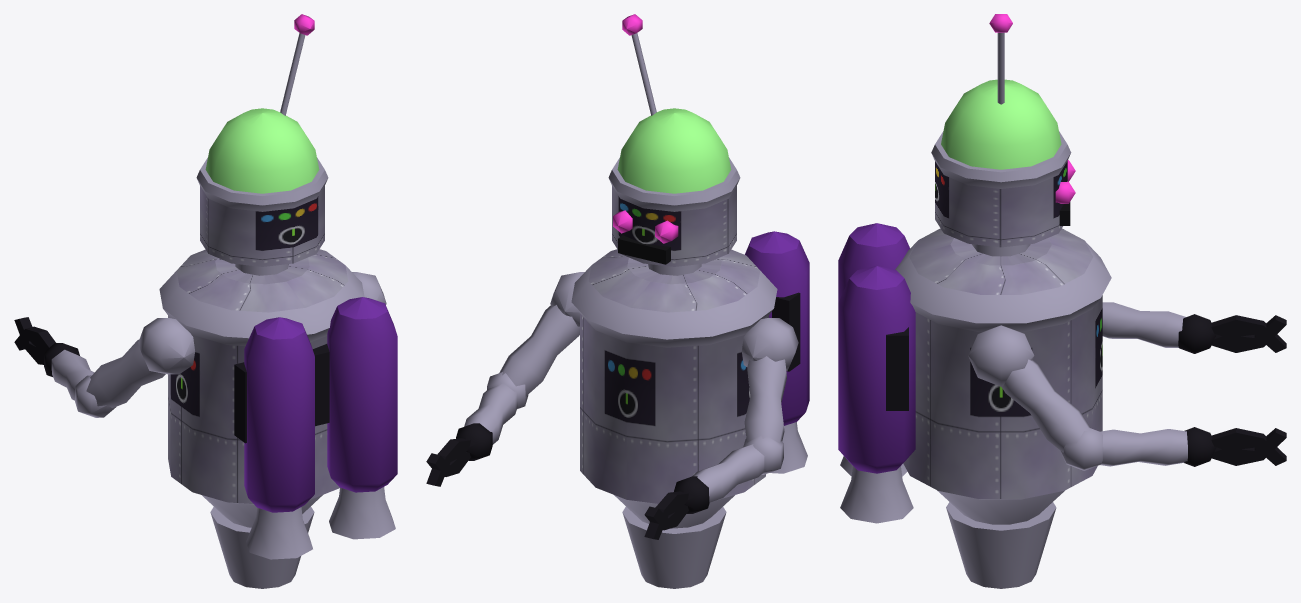
The model's file is robot_sentinel.obj.
The picture shows the model from 3 angles, left to right: view 1: azimuth 30°, elevation 25°; view 2: azimuth 150°, elevation 25°; view 3: azimuth 270°, elevation 25°; orthographic projection. The views are drawn at different scales.
Parts seen in each view (by area): view 1: tank, body, head, brain_dome, pack_bell, thruster, shoulder, upper_arm, pack_frame, forearm, claw, elbow (+1 smaller); view 2: body, head, brain_dome, upper_arm, tank, thruster, forearm, shoulder, claw, wrist, elbow, pack_frame (+4 smaller); view 3: body, tank, head, brain_dome, thruster, forearm, claw, upper_arm, pack_bell, shoulder, wrist, pack_frame (+1 smaller).
Boxes of the visible parts, <box> form: tank: <box>244,297,397,512</box>; body: <box>159,249,364,527</box>; head: <box>196,157,328,266</box>; brain_dome: <box>205,108,319,193</box>; pack_bell: <box>246,487,395,559</box>; thruster: <box>210,506,314,588</box>; shoulder: <box>138,272,386,374</box>; upper_arm: <box>86,339,165,407</box>; pack_frame: <box>234,344,329,443</box>; forearm: <box>51,349,94,400</box>; claw: <box>14,317,55,364</box>; elbow: <box>75,375,115,417</box>; body: <box>571,249,777,528</box>; head: <box>608,157,740,266</box>; brain_dome: <box>617,108,731,193</box>; upper_arm: <box>499,305,786,443</box>; tank: <box>745,231,809,425</box>; thruster: <box>622,506,726,588</box>; forearm: <box>464,383,764,502</box>; shoulder: <box>550,272,798,370</box>; claw: <box>426,438,688,539</box>; wrist: <box>456,423,709,513</box>; elbow: <box>487,372,783,474</box>; pack_frame: <box>772,292,800,371</box>; body: <box>895,228,1111,524</box>; tank: <box>838,223,915,473</box>; head: <box>931,131,1071,247</box>; brain_dome: <box>941,79,1061,169</box>; thruster: <box>946,502,1056,588</box>; forearm: <box>1100,302,1187,466</box>; claw: <box>1211,315,1286,465</box>; upper_arm: <box>1001,359,1090,452</box>; pack_bell: <box>840,456,913,523</box>; shoulder: <box>968,325,1034,386</box>; wrist: <box>1178,314,1216,466</box>; pack_frame: <box>886,327,908,410</box>.
Size of the model in its own units: 3.33 by 6 by 4.19.
8 materials, 1 textured.
